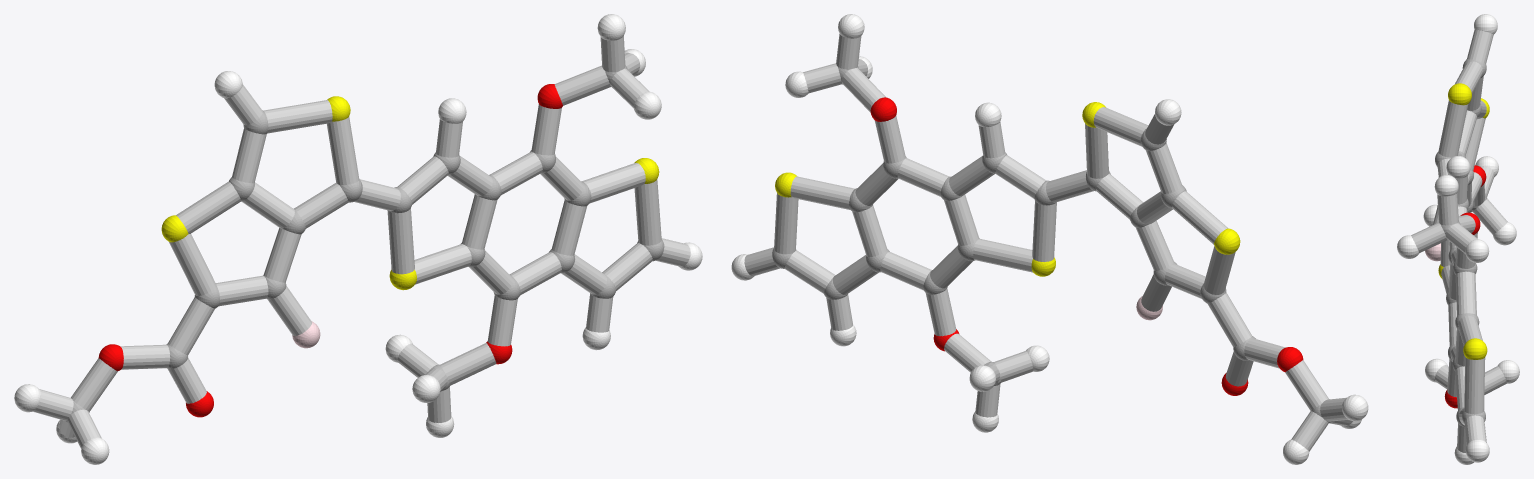
File: color.glb
The picture shows the model from 3 angles, left to right: view 1: azimuth 30°, elevation 25°; view 2: azimuth 150°, elevation 25°; view 3: azimuth 270°, elevation 25°; orthographic projection. The views are drawn at different scales.
Parts seen in each view (by area): view 1: grp15205, grp8689, grp1, grp13395, grp7241; view 2: grp15205, grp8689, grp1, grp7241, grp13395; view 3: grp15205, grp8689, grp1, grp7241, grp13395, grp14843.
Part boxes in pixels (x1,y1,x2,y2): grp15205: (33,36,690,448); grp8689: (14,14,702,464); grp1: (65,65,664,423); grp13395: (98,84,562,417); grp7241: (161,96,659,290); grp15205: (744,34,1352,451); grp8689: (731,14,1368,464); grp1: (772,66,1331,423); grp7241: (775,102,1240,276); grp13395: (870,97,1303,395); grp15205: (1411,29,1507,452); grp8689: (1397,14,1519,464); grp1: (1435,59,1487,426); grp7241: (1438,83,1489,359); grp13395: (1444,165,1486,408); grp14843: (1425,243,1440,261).
Size of the model in its own units: 16.59 by 9.52 by 3.07.
